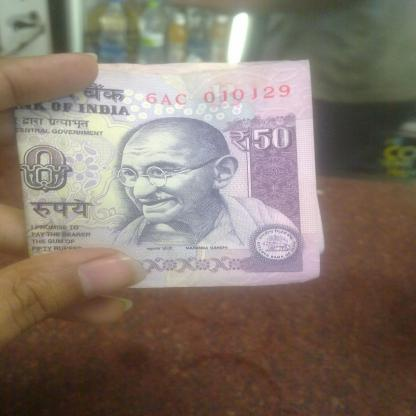Old50Front: (15, 58, 326, 289)
